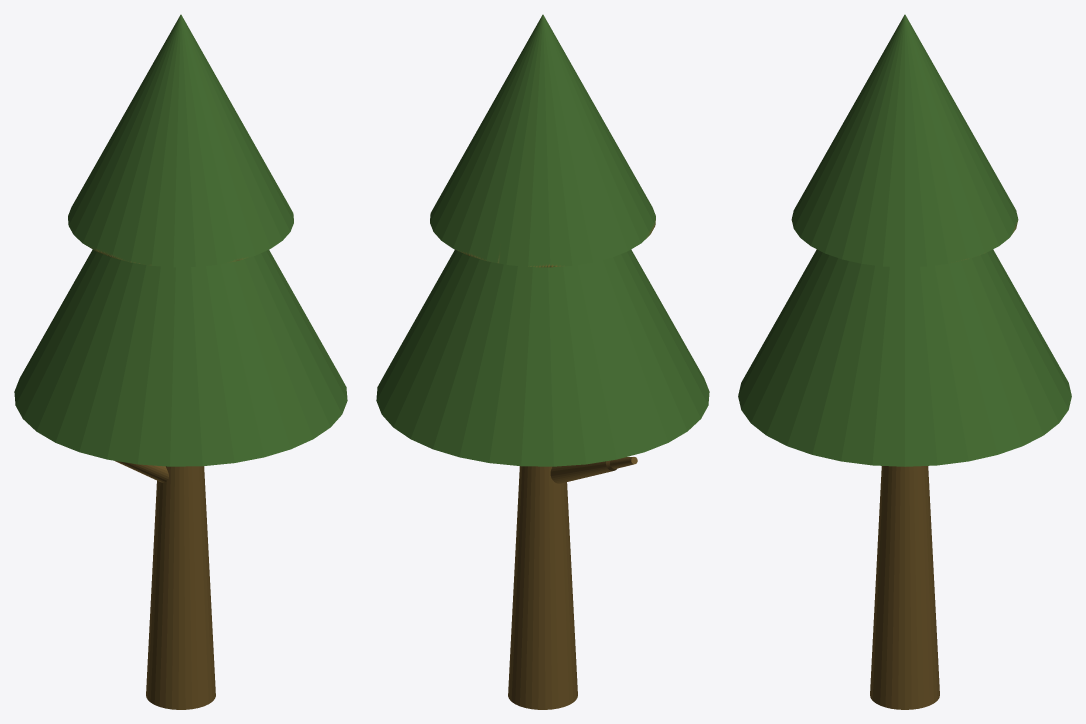
File: Tree.fbx
The picture shows the model from 3 angles, left to right: view 1: azimuth 30°, elevation 25°; view 2: azimuth 150°, elevation 25°; view 3: azimuth 270°, elevation 25°; orthographic projection.
Visible parts, largest first — view 1: Tree; view 2: Tree; view 3: Tree.
Boxes of the visible parts, box(x1,y1,x2,y2) form: Tree: box(14, 14, 347, 709); Tree: box(376, 14, 709, 709); Tree: box(738, 14, 1071, 709).
Size of the model in its own units: 191 by 431 by 191.
